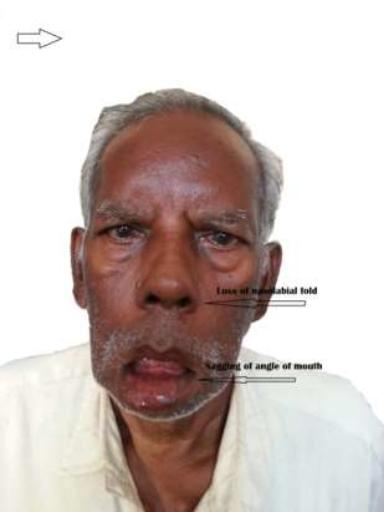left_eye: (202, 229, 245, 249)
left_lip_corner: (187, 365, 198, 379)
right_eye: (102, 223, 147, 242)
right_lip_corner: (125, 358, 138, 369)
